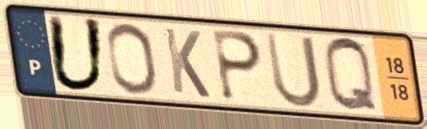K: (161, 24, 213, 101)
O: (103, 21, 161, 97)
P: (210, 27, 265, 104)
Q: (321, 34, 381, 115)
U: (44, 12, 109, 95), (262, 30, 324, 111)
